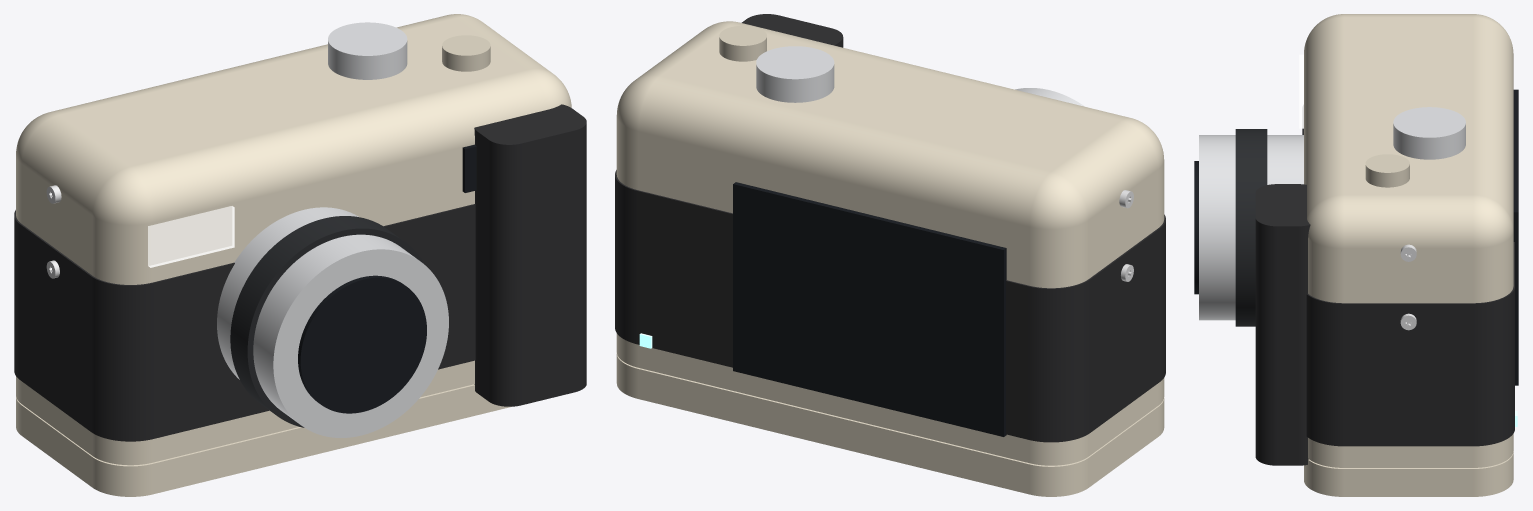
3 views of the same model, side by side, from view 1: azimuth 30°, elevation 25°; view 2: azimuth 150°, elevation 25°; view 3: azimuth 270°, elevation 25° (orthographic). The views are drawn at different scales.
Parts seen in each view (by area): view 1: body.1, rubber.1, rubber.2, metal.1, glass.1, body.2, coat.1, metal.2, diffuser.1, button.1, glass.3; view 2: body.1, glass.2, rubber.1, body.2, metal.2, rubber.2, button.1; view 3: body.1, rubber.1, rubber.2, metal.1, body.2, coat.1, metal.2, glass.2, button.1, glass.1, diffuser.1.
Part boxes in pixels (x1,y1,x2,y2): body.1: [16, 14, 571, 465]; rubber.1: [14, 204, 475, 441]; rubber.2: [474, 104, 586, 406]; metal.1: [217, 207, 448, 437]; glass.1: [298, 275, 426, 413]; body.2: [16, 384, 511, 496]; coat.1: [230, 216, 424, 427]; metal.2: [328, 22, 407, 79]; diffuser.1: [148, 206, 234, 267]; button.1: [442, 35, 490, 71]; glass.3: [462, 144, 476, 192]; body.1: [616, 21, 1164, 465]; glass.2: [733, 182, 1006, 436]; rubber.1: [615, 170, 1165, 442]; body.2: [616, 353, 1164, 496]; metal.2: [756, 46, 834, 102]; rubber.2: [741, 14, 843, 47]; button.1: [719, 25, 766, 61]; body.1: [1304, 14, 1513, 467]; rubber.1: [1302, 105, 1514, 446]; rubber.2: [1255, 184, 1310, 465]; metal.1: [1199, 135, 1303, 320]; body.2: [1304, 451, 1513, 496]; coat.1: [1235, 129, 1267, 326]; metal.2: [1393, 107, 1465, 159]; glass.2: [1513, 89, 1518, 385]; button.1: [1365, 154, 1409, 187]; glass.1: [1194, 161, 1198, 294]; diffuser.1: [1299, 54, 1303, 128].
Size of the model in its own units: 0.1272 by 0.084 by 0.0805.
